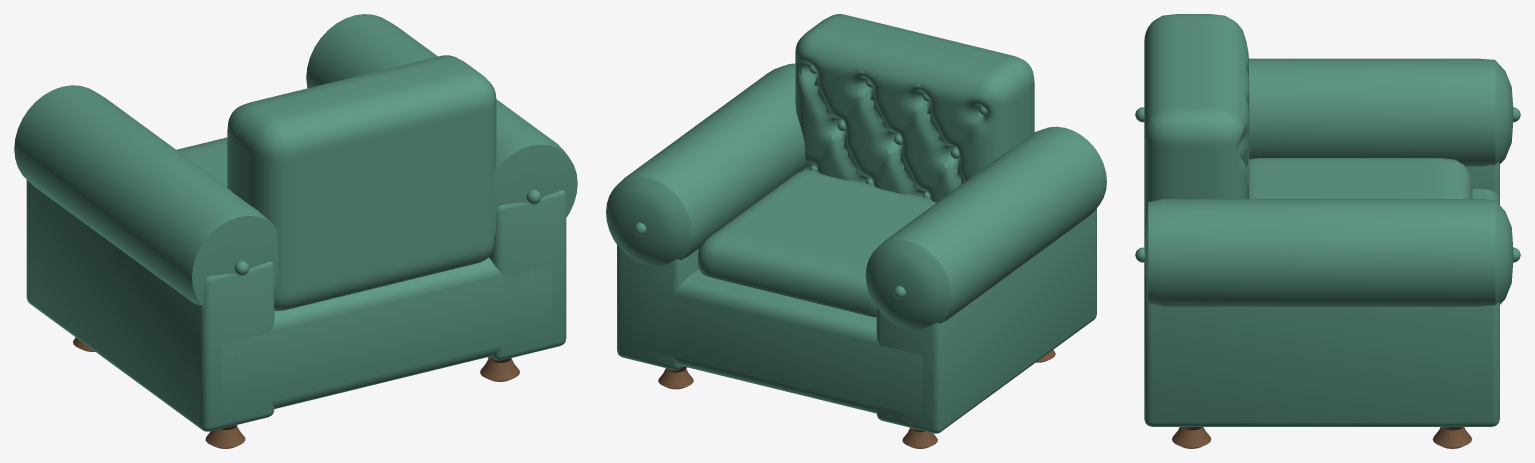
File: arr_poltrona.fbx
3 views of the same model, side by side, from view 1: azimuth 30°, elevation 25°; view 2: azimuth 150°, elevation 25°; view 3: azimuth 270°, elevation 25° (orthographic). The views are drawn at different scales.
Visible parts, largest first — view 1: arr_poltrona_velluto, arr_poltrona_noce; view 2: arr_poltrona_velluto, arr_poltrona_noce; view 3: arr_poltrona_velluto, arr_poltrona_noce.
Boxes of the visible parts, x1=… form: arr_poltrona_velluto: x1=14, y1=14, x2=577, y2=431; arr_poltrona_noce: x1=73, y1=337, x2=519, y2=448; arr_poltrona_velluto: x1=606, y1=14, x2=1106, y2=433; arr_poltrona_noce: x1=658, y1=350, x2=1055, y2=448; arr_poltrona_velluto: x1=1135, y1=14, x2=1520, y2=426; arr_poltrona_noce: x1=1172, y1=427, x2=1472, y2=448.
Size of the model in its own units: 1.12 by 0.88 by 0.976.
